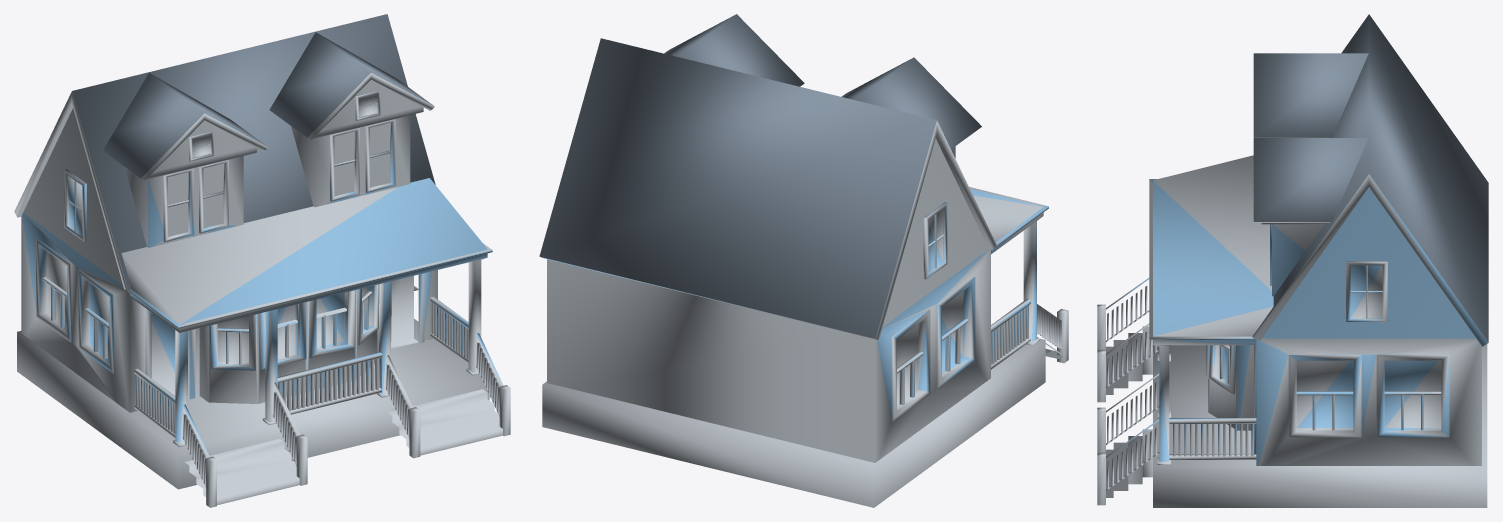
Rendered from building_apt.glb.
3 views of the same model, side by side, from view 1: azimuth 30°, elevation 25°; view 2: azimuth 150°, elevation 25°; view 3: azimuth 270°, elevation 25° (orthographic). The views are drawn at different scales.
Bounding box in the file's own units: 5.2 × 5.08 × 5.38.
